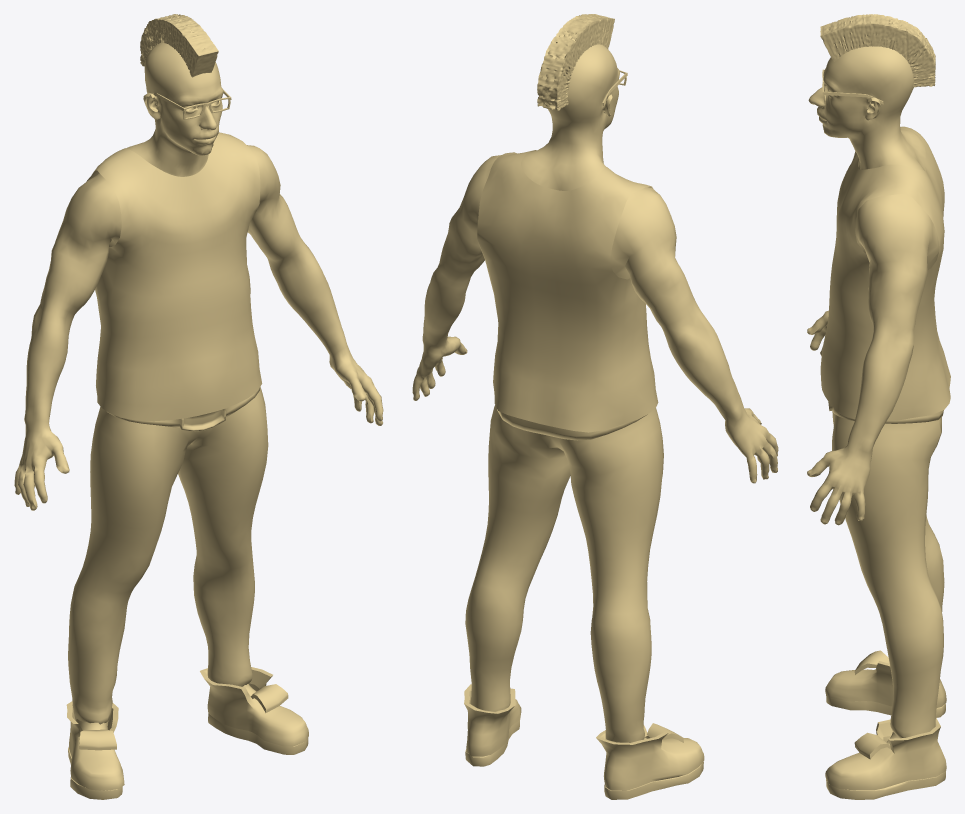
Rendered from emin_char.fbx.
The picture shows the model from 3 angles, left to right: view 1: azimuth 30°, elevation 25°; view 2: azimuth 150°, elevation 25°; view 3: azimuth 270°, elevation 25°; orthographic projection.
Visible parts, largest first — view 1: ATLET, emin_char, Plane, kemer; view 2: ATLET, emin_char, Plane, kemer; view 3: ATLET, emin_char, Plane, kemer, gozluk.
Boxes of the visible parts, box(x1,y1,x2,y2) form: ATLET: box(68, 132, 268, 724); emin_char: box(14, 14, 383, 730); Plane: box(66, 667, 308, 799); kemer: box(107, 388, 259, 431); ATLET: box(465, 150, 663, 742); emin_char: box(412, 14, 778, 739); Plane: box(464, 684, 704, 799); kemer: box(497, 409, 647, 440); ATLET: box(820, 126, 950, 738); emin_char: box(807, 14, 939, 745); Plane: box(825, 650, 946, 799); kemer: box(828, 402, 943, 423); gozluk: box(822, 69, 883, 104).
Bounding box in the file's own units: 88.79 × 176 × 31.56.
